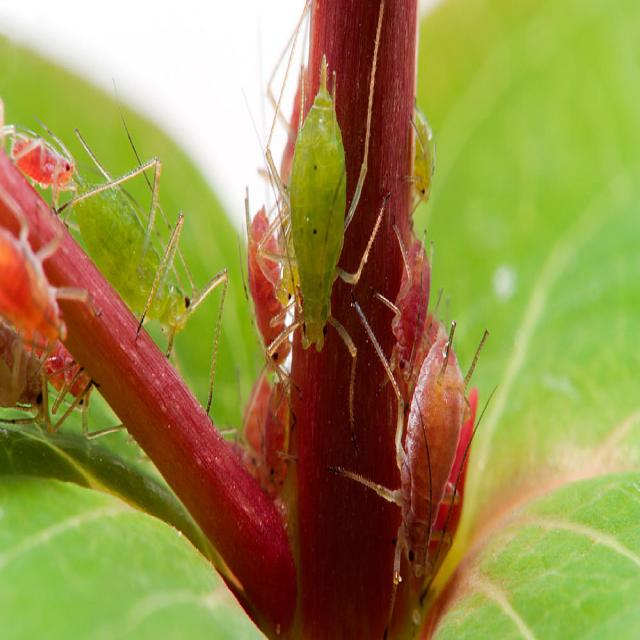Aphid: (68, 146, 200, 367), (396, 308, 476, 615), (284, 55, 361, 372), (404, 98, 436, 223), (15, 132, 75, 198)
